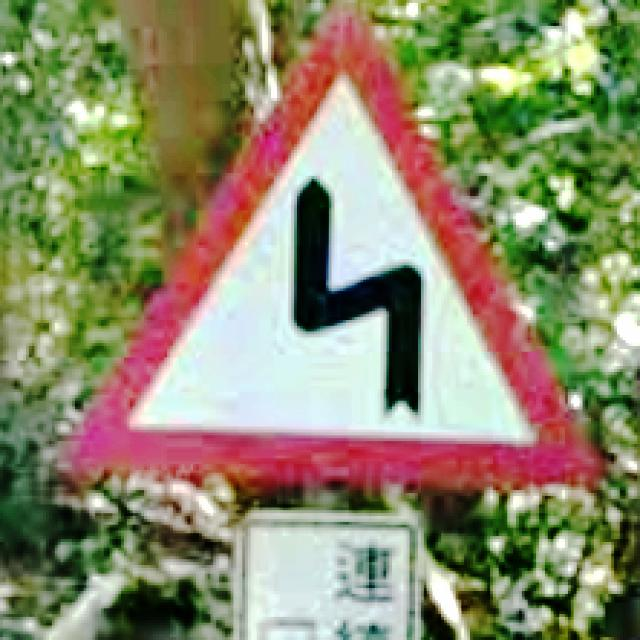doublebendleft: (69, 14, 597, 490)
